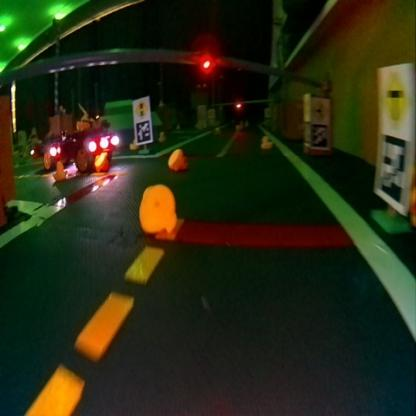Duckie: (140, 186, 176, 232), (167, 148, 186, 171), (94, 152, 108, 170), (54, 160, 66, 180), (76, 116, 90, 130), (260, 134, 272, 148), (130, 140, 139, 150), (158, 131, 165, 141)
Duckiebot: (30, 126, 118, 174)
Intersection sign: (379, 68, 408, 128), (311, 97, 329, 121)
QR code: (311, 124, 327, 146), (134, 120, 150, 142), (302, 120, 310, 146)
Signal sign: (134, 98, 150, 119)
Traffic light: (200, 55, 212, 73)
